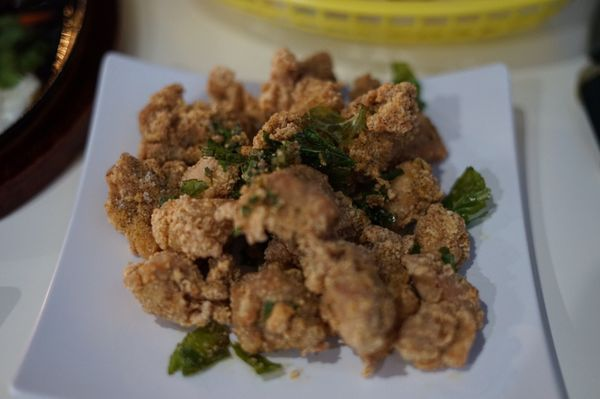curry: (13, 4, 597, 395)
